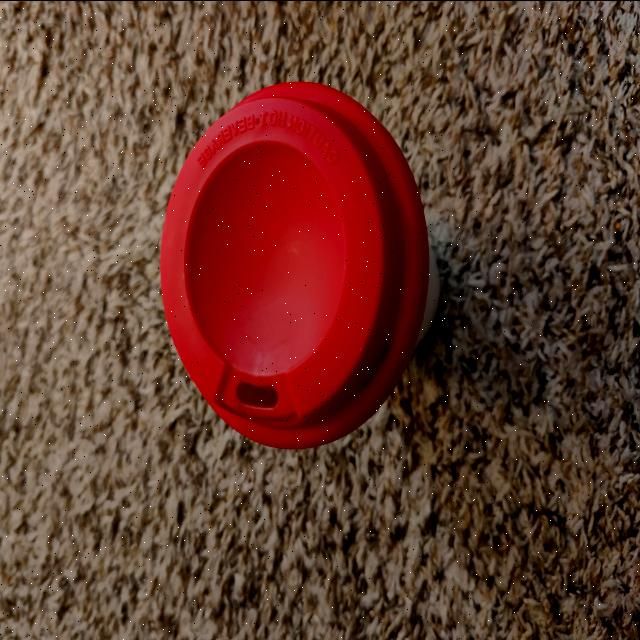mug: (182, 117, 446, 420)
